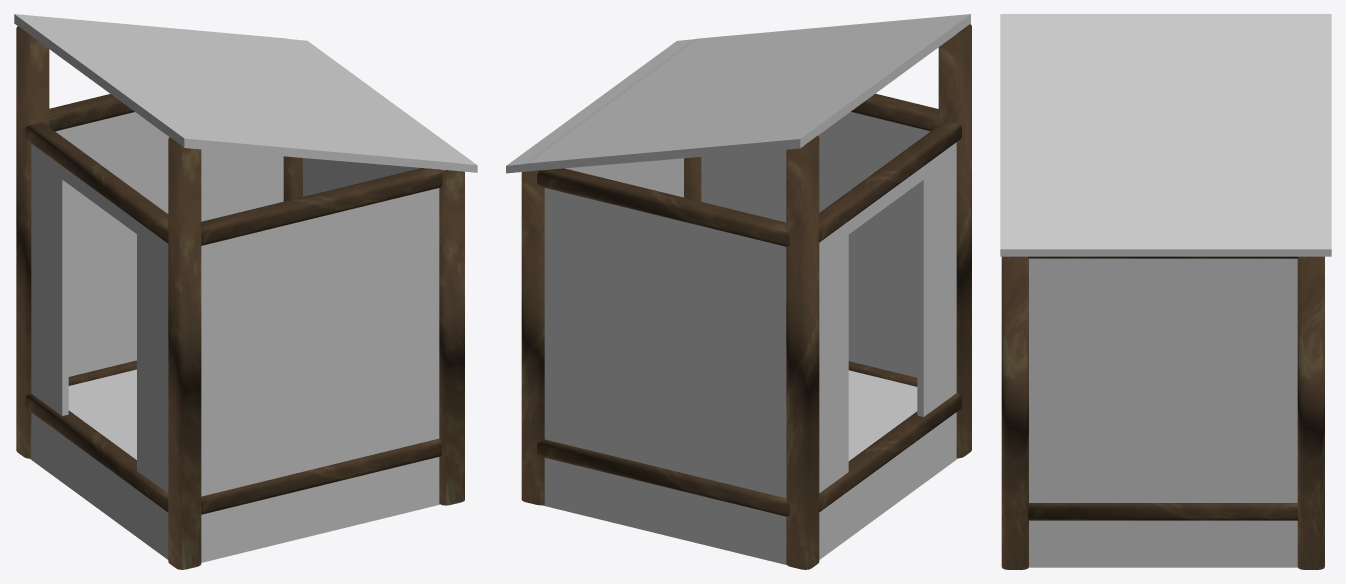
File: Outhouse 1.fbx
3 views of the same model, side by side, from view 1: azimuth 30°, elevation 25°; view 2: azimuth 150°, elevation 25°; view 3: azimuth 270°, elevation 25° (orthographic). The views are drawn at different scales.
Visible parts, largest first — view 1: OutHouse; view 2: OutHouse; view 3: OutHouse.
Boxes of the visible parts, x1,y1,x2,y2 form: OutHouse: [14, 14, 477, 569]; OutHouse: [506, 14, 971, 569]; OutHouse: [1000, 14, 1331, 569].
Size of the model in its own units: 332 by 463 by 329.
